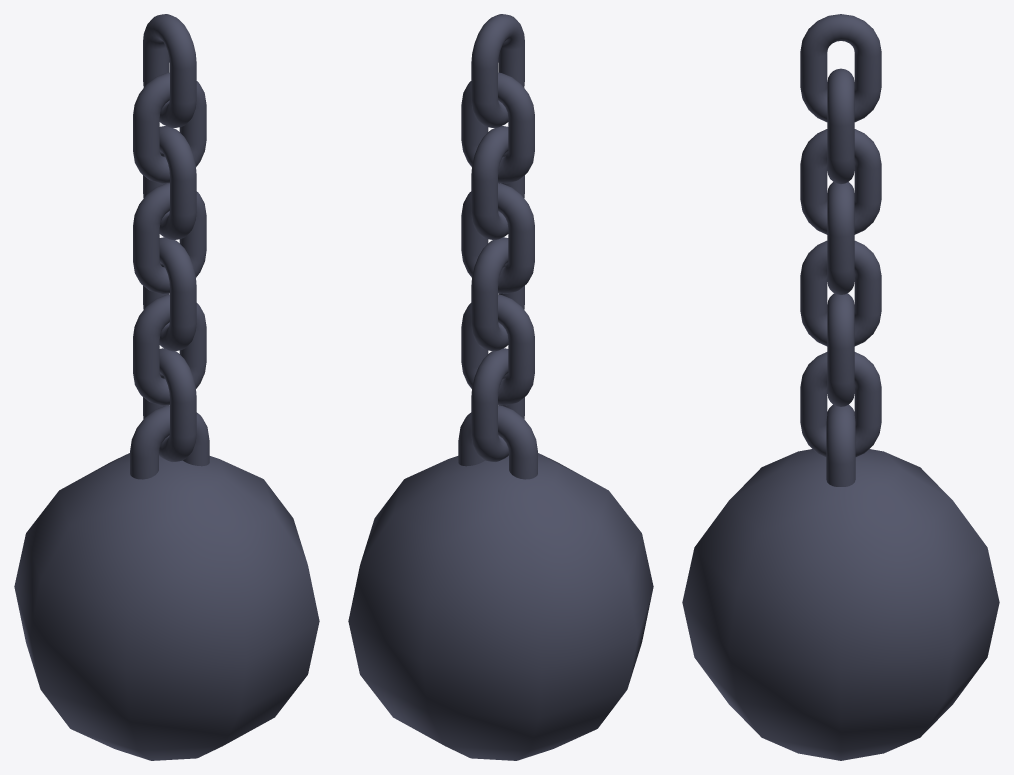
Rendered from SM_Wreckingball.fbx.
3 renders of one model, left to right at view 1: azimuth 30°, elevation 25°; view 2: azimuth 150°, elevation 25°; view 3: azimuth 270°, elevation 25°, orthographic.
Parts seen in each view (by area): view 1: Wreckingball, Chain7, Chain6, Chain4, Chain2, Chain3, Chain5, Chain1, Chain0; view 2: Wreckingball, Chain7, Chain6, Chain4, Chain2, Chain3, Chain5, Chain1, Chain0; view 3: Wreckingball, Chain7, Chain3, Chain5, Chain1, Chain6, Chain2, Chain4, Chain0.
Boxes of the visible parts, x1,y1,x2,y2 form: Wreckingball: (14, 453, 319, 760); Chain7: (143, 14, 196, 128); Chain6: (133, 72, 206, 183); Chain4: (133, 183, 206, 293); Chain2: (133, 294, 206, 405); Chain3: (143, 237, 196, 351); Chain5: (143, 126, 196, 239); Chain1: (143, 348, 196, 461); Chain0: (130, 405, 209, 479); Wreckingball: (348, 453, 653, 760); Chain7: (471, 14, 524, 128); Chain6: (461, 72, 534, 183); Chain4: (461, 183, 534, 293); Chain2: (461, 294, 534, 405); Chain3: (471, 237, 524, 351); Chain5: (471, 126, 524, 239); Chain1: (471, 348, 524, 461); Chain0: (458, 405, 537, 479); Wreckingball: (682, 449, 999, 760); Chain7: (800, 14, 881, 122); Chain3: (800, 240, 881, 346); Chain5: (800, 129, 881, 234); Chain1: (800, 352, 881, 456); Chain6: (827, 68, 854, 184); Chain2: (827, 293, 854, 406); Chain4: (827, 182, 854, 294); Chain0: (826, 404, 855, 486).
Size of the model in its own units: 11.69 by 29.79 by 11.69.
